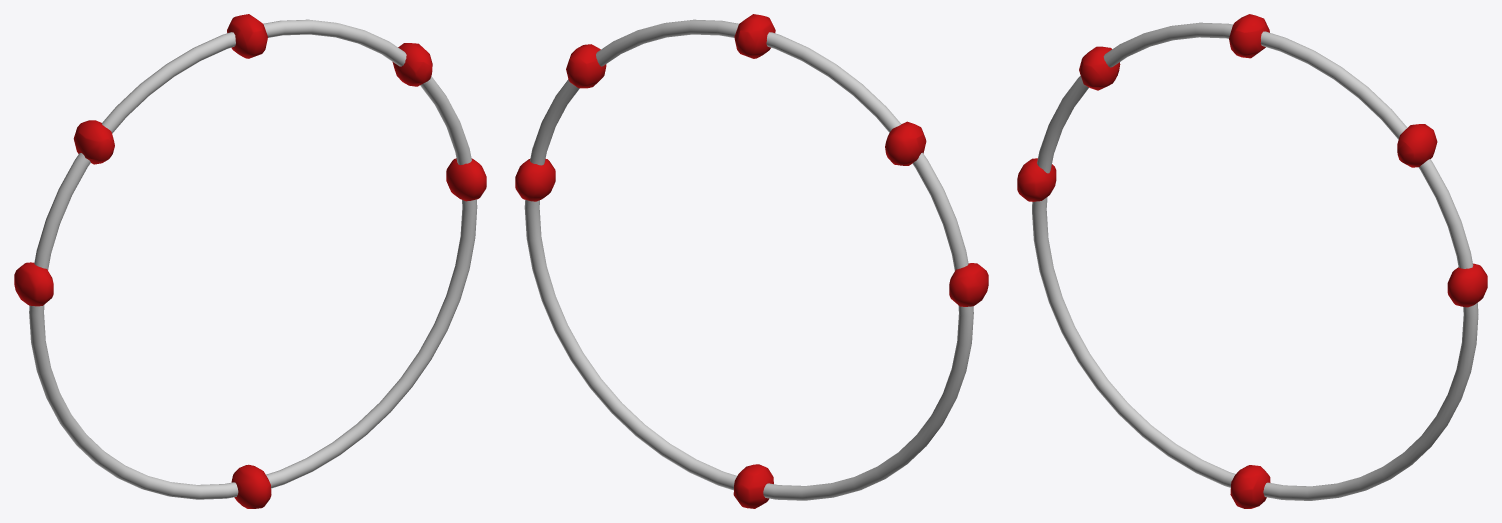
The picture shows the model from 3 angles, left to right: view 1: azimuth 30°, elevation 25°; view 2: azimuth 150°, elevation 25°; view 3: azimuth 330°, elevation 25°; orthographic projection.
Visible parts, largest first — view 1: Ring_Torus, Electron_Mball; view 2: Ring_Torus, Electron_Mball; view 3: Ring_Torus, Electron_Mball.
Part boxes in pixels (box(x1,y1,x2,y2)): Ring_Torus: box(29, 19, 477, 499); Electron_Mball: box(14, 14, 486, 508); Ring_Torus: box(524, 19, 973, 500); Electron_Mball: box(515, 14, 988, 508); Ring_Torus: box(1032, 22, 1478, 500); Electron_Mball: box(1017, 14, 1487, 508).
Size of the model in its own units: 2.56 by 2.59 by 0.2705.
